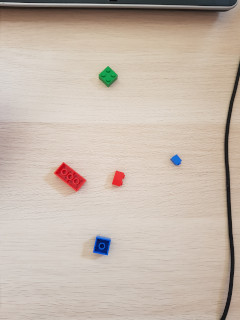1x1 blue: (168, 154, 183, 168)
1x2 red: (112, 170, 126, 188)
2x2 blue: (93, 236, 112, 256)
2x2 green: (99, 65, 120, 89)
2x4 red: (54, 161, 87, 192)
